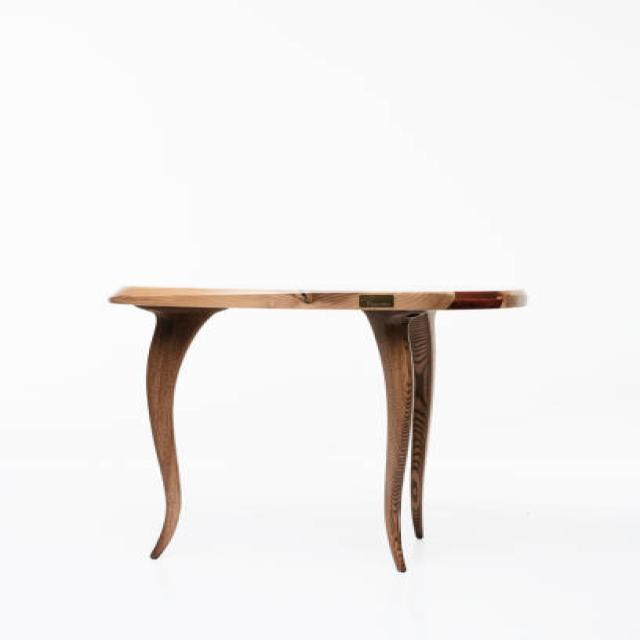table: (106, 284, 528, 572)
